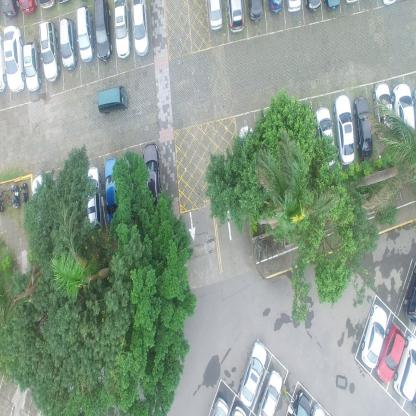car: (238, 342, 268, 408), (360, 306, 389, 369), (376, 324, 405, 386), (332, 94, 355, 165), (2, 26, 26, 93), (392, 81, 416, 142), (38, 20, 60, 83), (315, 105, 336, 168), (353, 95, 373, 160), (142, 140, 161, 208), (256, 368, 283, 415), (372, 82, 393, 139), (94, 0, 112, 64), (104, 156, 121, 223), (76, 4, 95, 63), (58, 16, 78, 71), (86, 166, 102, 233), (113, 0, 131, 59), (132, 0, 150, 58), (22, 41, 42, 93), (97, 84, 129, 116), (404, 263, 416, 325), (227, 0, 245, 34), (289, 388, 311, 415), (207, 0, 224, 31), (249, 0, 265, 25), (210, 394, 228, 416), (1, 0, 19, 20), (19, 0, 38, 14), (286, 0, 303, 15), (268, 0, 284, 14), (304, 0, 322, 12), (324, 0, 342, 12)
